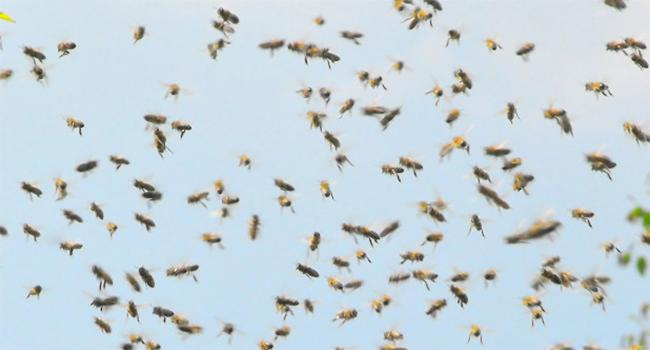bee: (624, 122, 649, 142), (93, 265, 113, 284), (449, 284, 468, 303), (536, 220, 561, 234), (138, 267, 154, 288), (587, 155, 617, 166), (381, 220, 400, 237), (218, 7, 238, 23), (94, 316, 111, 334), (490, 195, 510, 210), (339, 224, 364, 236), (540, 269, 560, 284), (427, 299, 447, 314), (507, 232, 534, 243), (297, 264, 319, 277), (23, 46, 46, 58), (134, 213, 155, 226), (209, 39, 226, 55), (515, 174, 533, 189), (356, 227, 378, 239), (583, 276, 612, 285), (381, 109, 398, 124), (631, 54, 648, 69), (155, 129, 166, 152), (399, 158, 422, 169), (133, 181, 156, 192), (408, 8, 420, 29), (91, 202, 105, 220), (178, 264, 199, 276), (126, 273, 140, 291), (625, 37, 646, 49), (287, 43, 312, 53), (503, 158, 522, 171), (23, 182, 42, 195), (477, 185, 496, 198), (274, 179, 294, 191), (57, 179, 69, 199), (400, 252, 424, 262), (413, 271, 437, 281), (92, 297, 116, 307), (326, 131, 340, 148), (428, 209, 446, 222), (470, 213, 483, 231), (64, 210, 83, 222), (516, 43, 535, 55), (458, 72, 472, 88), (559, 272, 572, 289), (187, 192, 209, 202), (572, 208, 594, 218), (389, 273, 409, 284), (603, 0, 627, 9), (584, 83, 608, 92), (339, 99, 354, 113), (544, 107, 565, 117), (383, 164, 404, 174), (337, 309, 358, 319), (77, 160, 96, 171), (214, 22, 233, 33), (423, 0, 442, 11), (560, 117, 573, 133), (250, 214, 258, 240), (593, 162, 610, 174), (320, 181, 332, 198), (23, 224, 40, 236), (153, 306, 173, 316), (561, 271, 579, 282), (445, 110, 459, 124), (533, 276, 547, 290), (521, 297, 542, 306), (180, 325, 201, 334), (607, 42, 628, 51), (112, 155, 129, 166), (427, 231, 444, 242), (261, 40, 284, 48), (329, 278, 343, 291), (309, 112, 321, 127), (474, 167, 489, 179), (142, 191, 160, 201), (202, 233, 220, 243), (310, 232, 320, 250), (542, 255, 560, 265), (332, 256, 350, 266), (145, 115, 167, 123), (61, 242, 83, 250), (341, 31, 363, 39), (167, 266, 184, 276), (452, 272, 469, 282), (310, 48, 327, 58), (32, 65, 44, 79), (319, 87, 331, 101), (127, 301, 138, 316), (385, 332, 403, 341), (171, 122, 191, 130), (172, 314, 188, 324), (325, 52, 341, 62), (586, 279, 599, 291), (277, 297, 299, 304), (396, 0, 413, 9), (506, 103, 514, 121), (439, 145, 453, 155), (67, 119, 84, 127), (57, 42, 76, 49), (363, 107, 385, 113), (488, 149, 510, 155), (278, 196, 290, 207), (372, 75, 383, 87), (454, 137, 467, 147), (484, 270, 497, 280), (304, 299, 314, 312), (277, 302, 290, 312), (223, 195, 239, 203), (215, 180, 224, 194), (471, 325, 482, 336), (301, 86, 311, 98), (419, 13, 432, 22), (29, 285, 42, 294), (135, 26, 144, 39), (419, 201, 427, 215), (146, 342, 160, 350), (451, 85, 465, 93), (336, 153, 346, 164), (240, 155, 250, 166), (356, 249, 366, 260), (224, 323, 235, 333), (487, 39, 497, 50), (0, 70, 13, 78), (346, 282, 363, 288), (432, 85, 442, 95), (170, 83, 179, 94), (129, 335, 143, 342), (374, 300, 382, 312), (220, 207, 228, 218), (592, 295, 603, 303), (448, 31, 460, 38), (260, 343, 274, 349), (604, 243, 614, 251), (276, 329, 287, 336), (437, 196, 443, 208), (107, 223, 116, 231), (394, 61, 402, 70), (360, 71, 368, 80), (0, 226, 7, 236), (383, 294, 390, 304), (121, 344, 132, 350), (533, 310, 541, 318), (316, 17, 324, 24)
